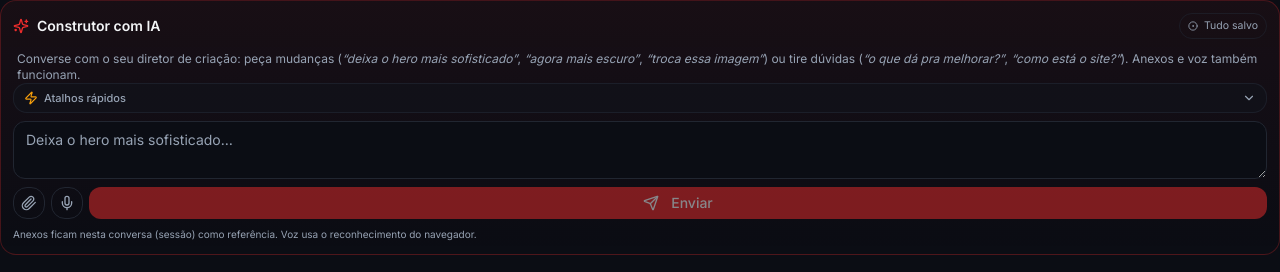
Scenario: Gravador de voz do chat — só transcreve ao PARAR e UMA vez (silêncio não finaliza) › 5) stop duplicado (onend tardio) NÃO gera duas transcrições
What coordinates should you click on to do the following:
click the button titled "Gravar com voz"
I would click on:
 (67, 203)
Its box is left=51, top=187, right=83, bottom=219.
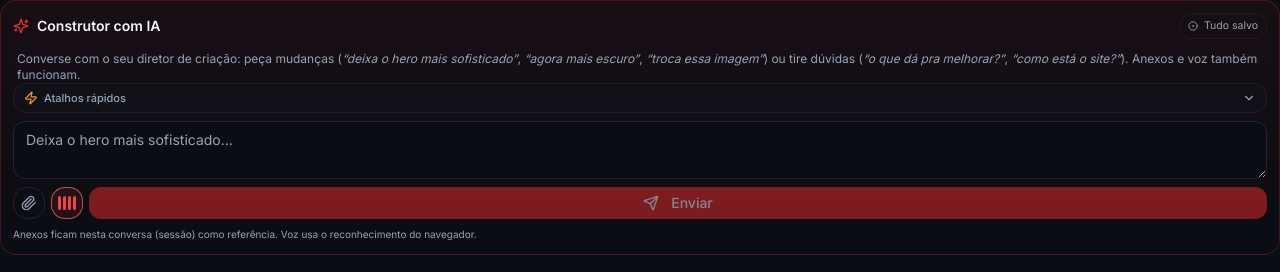
What coordinates should you click on to do the following:
click the button titled "Parar gravação"
I would click on:
 (67, 203)
Its box is left=51, top=187, right=83, bottom=219.
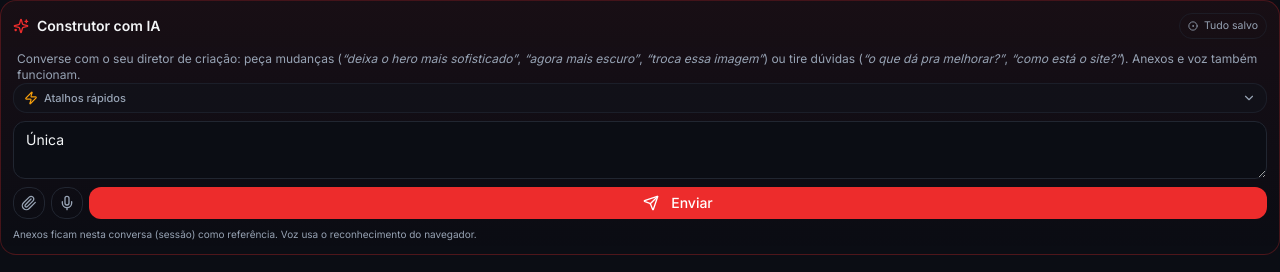
Expected: the text box with placeholder "Deixa o hero mais sofisticado…" holds "Única", left=13, top=121, right=1267, bottom=179
